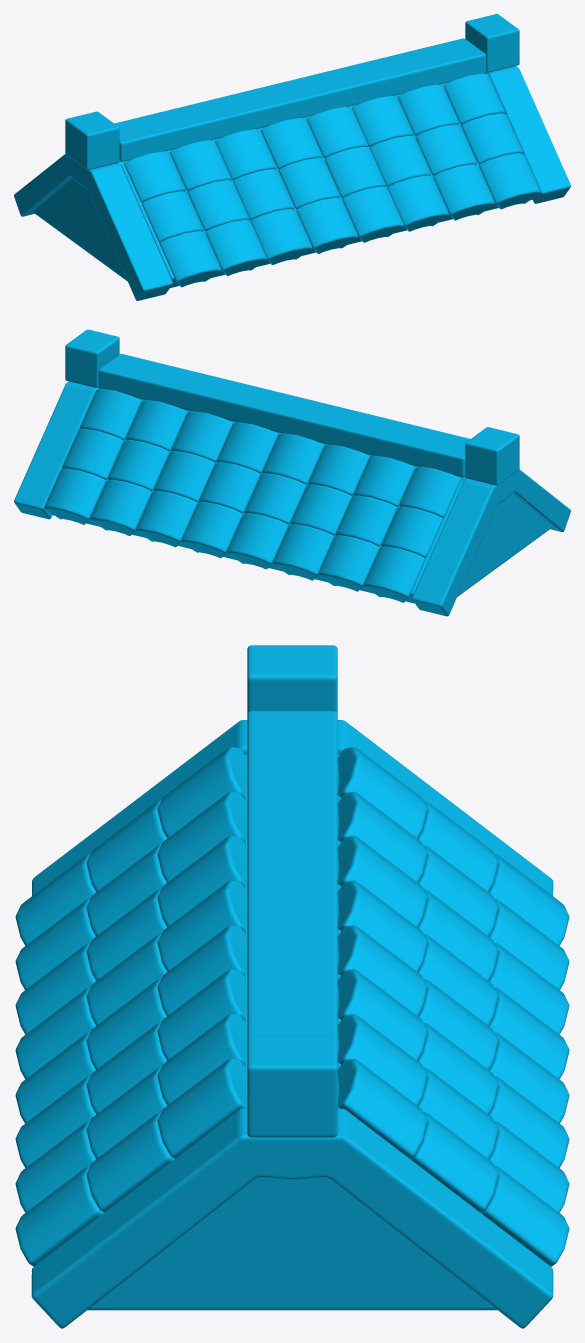
The model's file is SM_Brick_Roof_06.fbx.
3 renders of one model, top to bottom at view 1: azimuth 30°, elevation 25°; view 2: azimuth 150°, elevation 25°; view 3: azimuth 270°, elevation 25°, orthographic. The views are drawn at different scales.
Parts seen in each view (by area): view 1: SM_Brick_Roof_06; view 2: SM_Brick_Roof_06; view 3: SM_Brick_Roof_06.
Boxes of the visible parts, <box> form: SM_Brick_Roof_06: <box>14,14,570,300</box>; SM_Brick_Roof_06: <box>14,329,570,616</box>; SM_Brick_Roof_06: <box>15,645,569,1328</box>.
Size of the model in its own units: 5.05 by 1.48 by 2.8.
